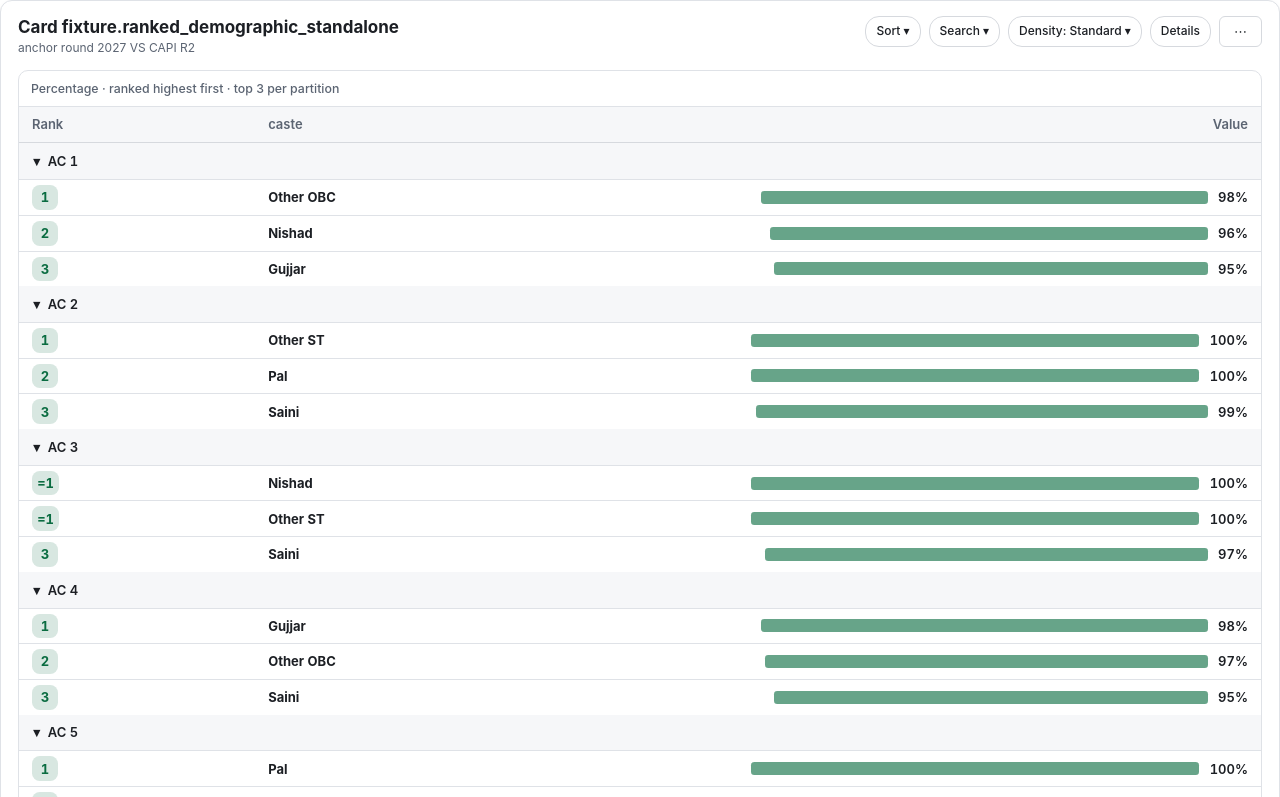
Scenario: the cohort action on cards › a demographic ranking card does not
This screenshot has width=1280, height=797.
What coordinates should you click on to do the following:
click the button "⋯"
I would click on:
 (1240, 32)
Its box is [1219,16,1262,47].
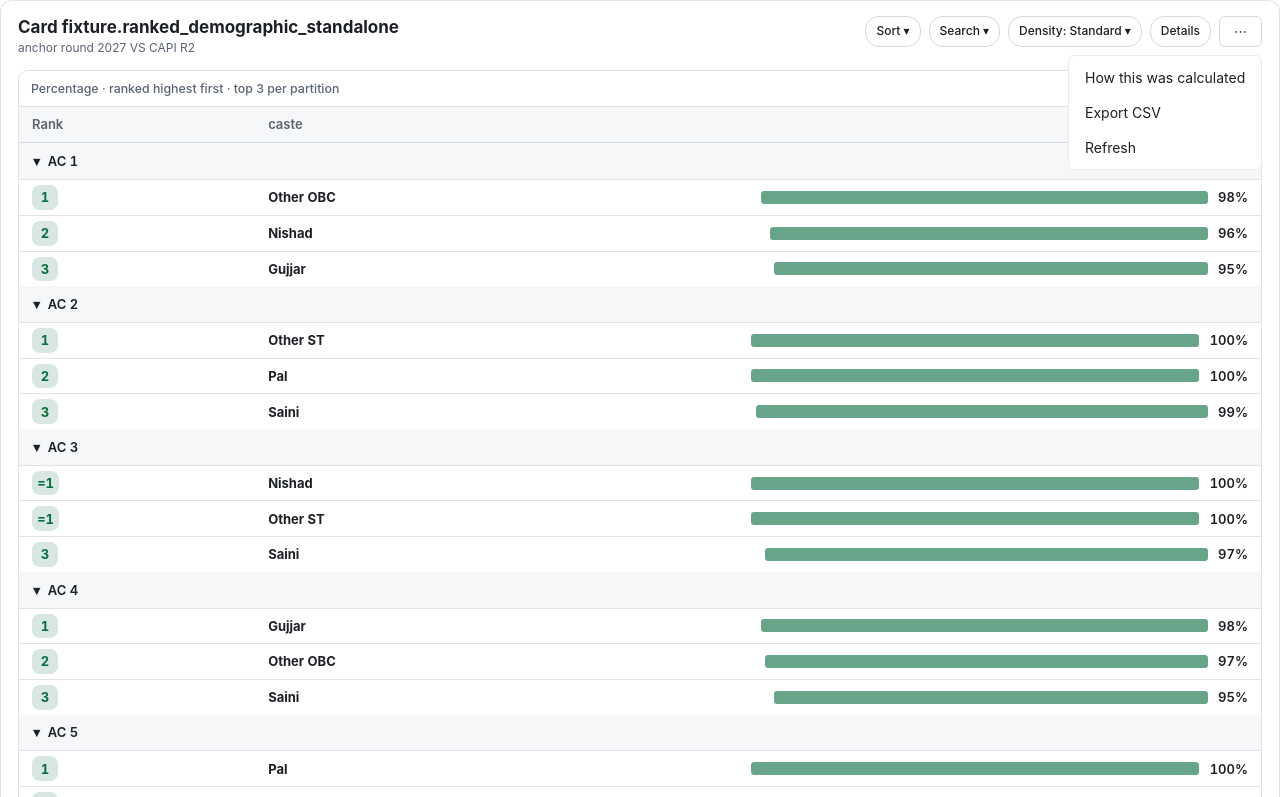
Result: the menu item "Refresh" is shown at [1073,130,1257,165]
